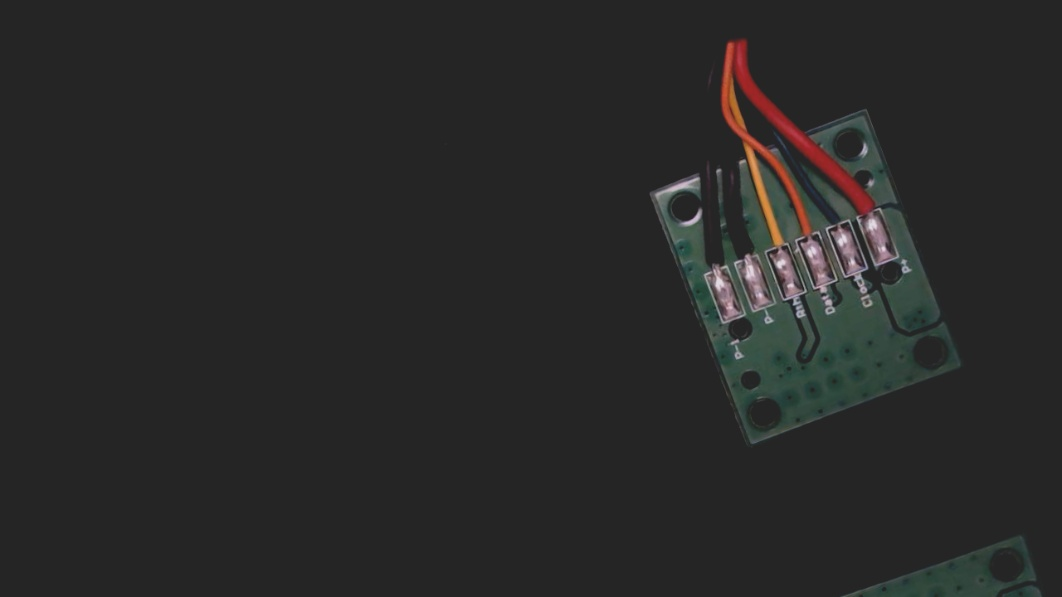Black: (723, 220, 761, 274)
Black1: (692, 231, 733, 285)
Green: (814, 191, 852, 241)
Orange: (785, 198, 822, 251)
Red: (843, 172, 886, 226)
Yellow: (754, 208, 793, 263)
